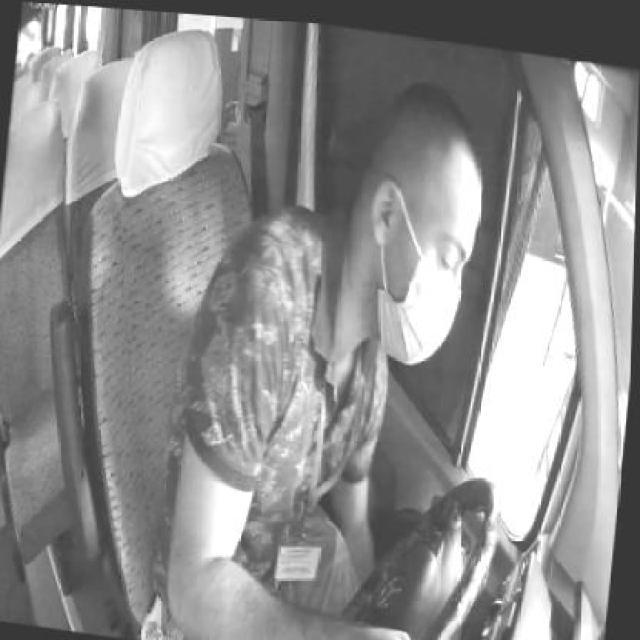Inattentive: (354, 81, 488, 366)
